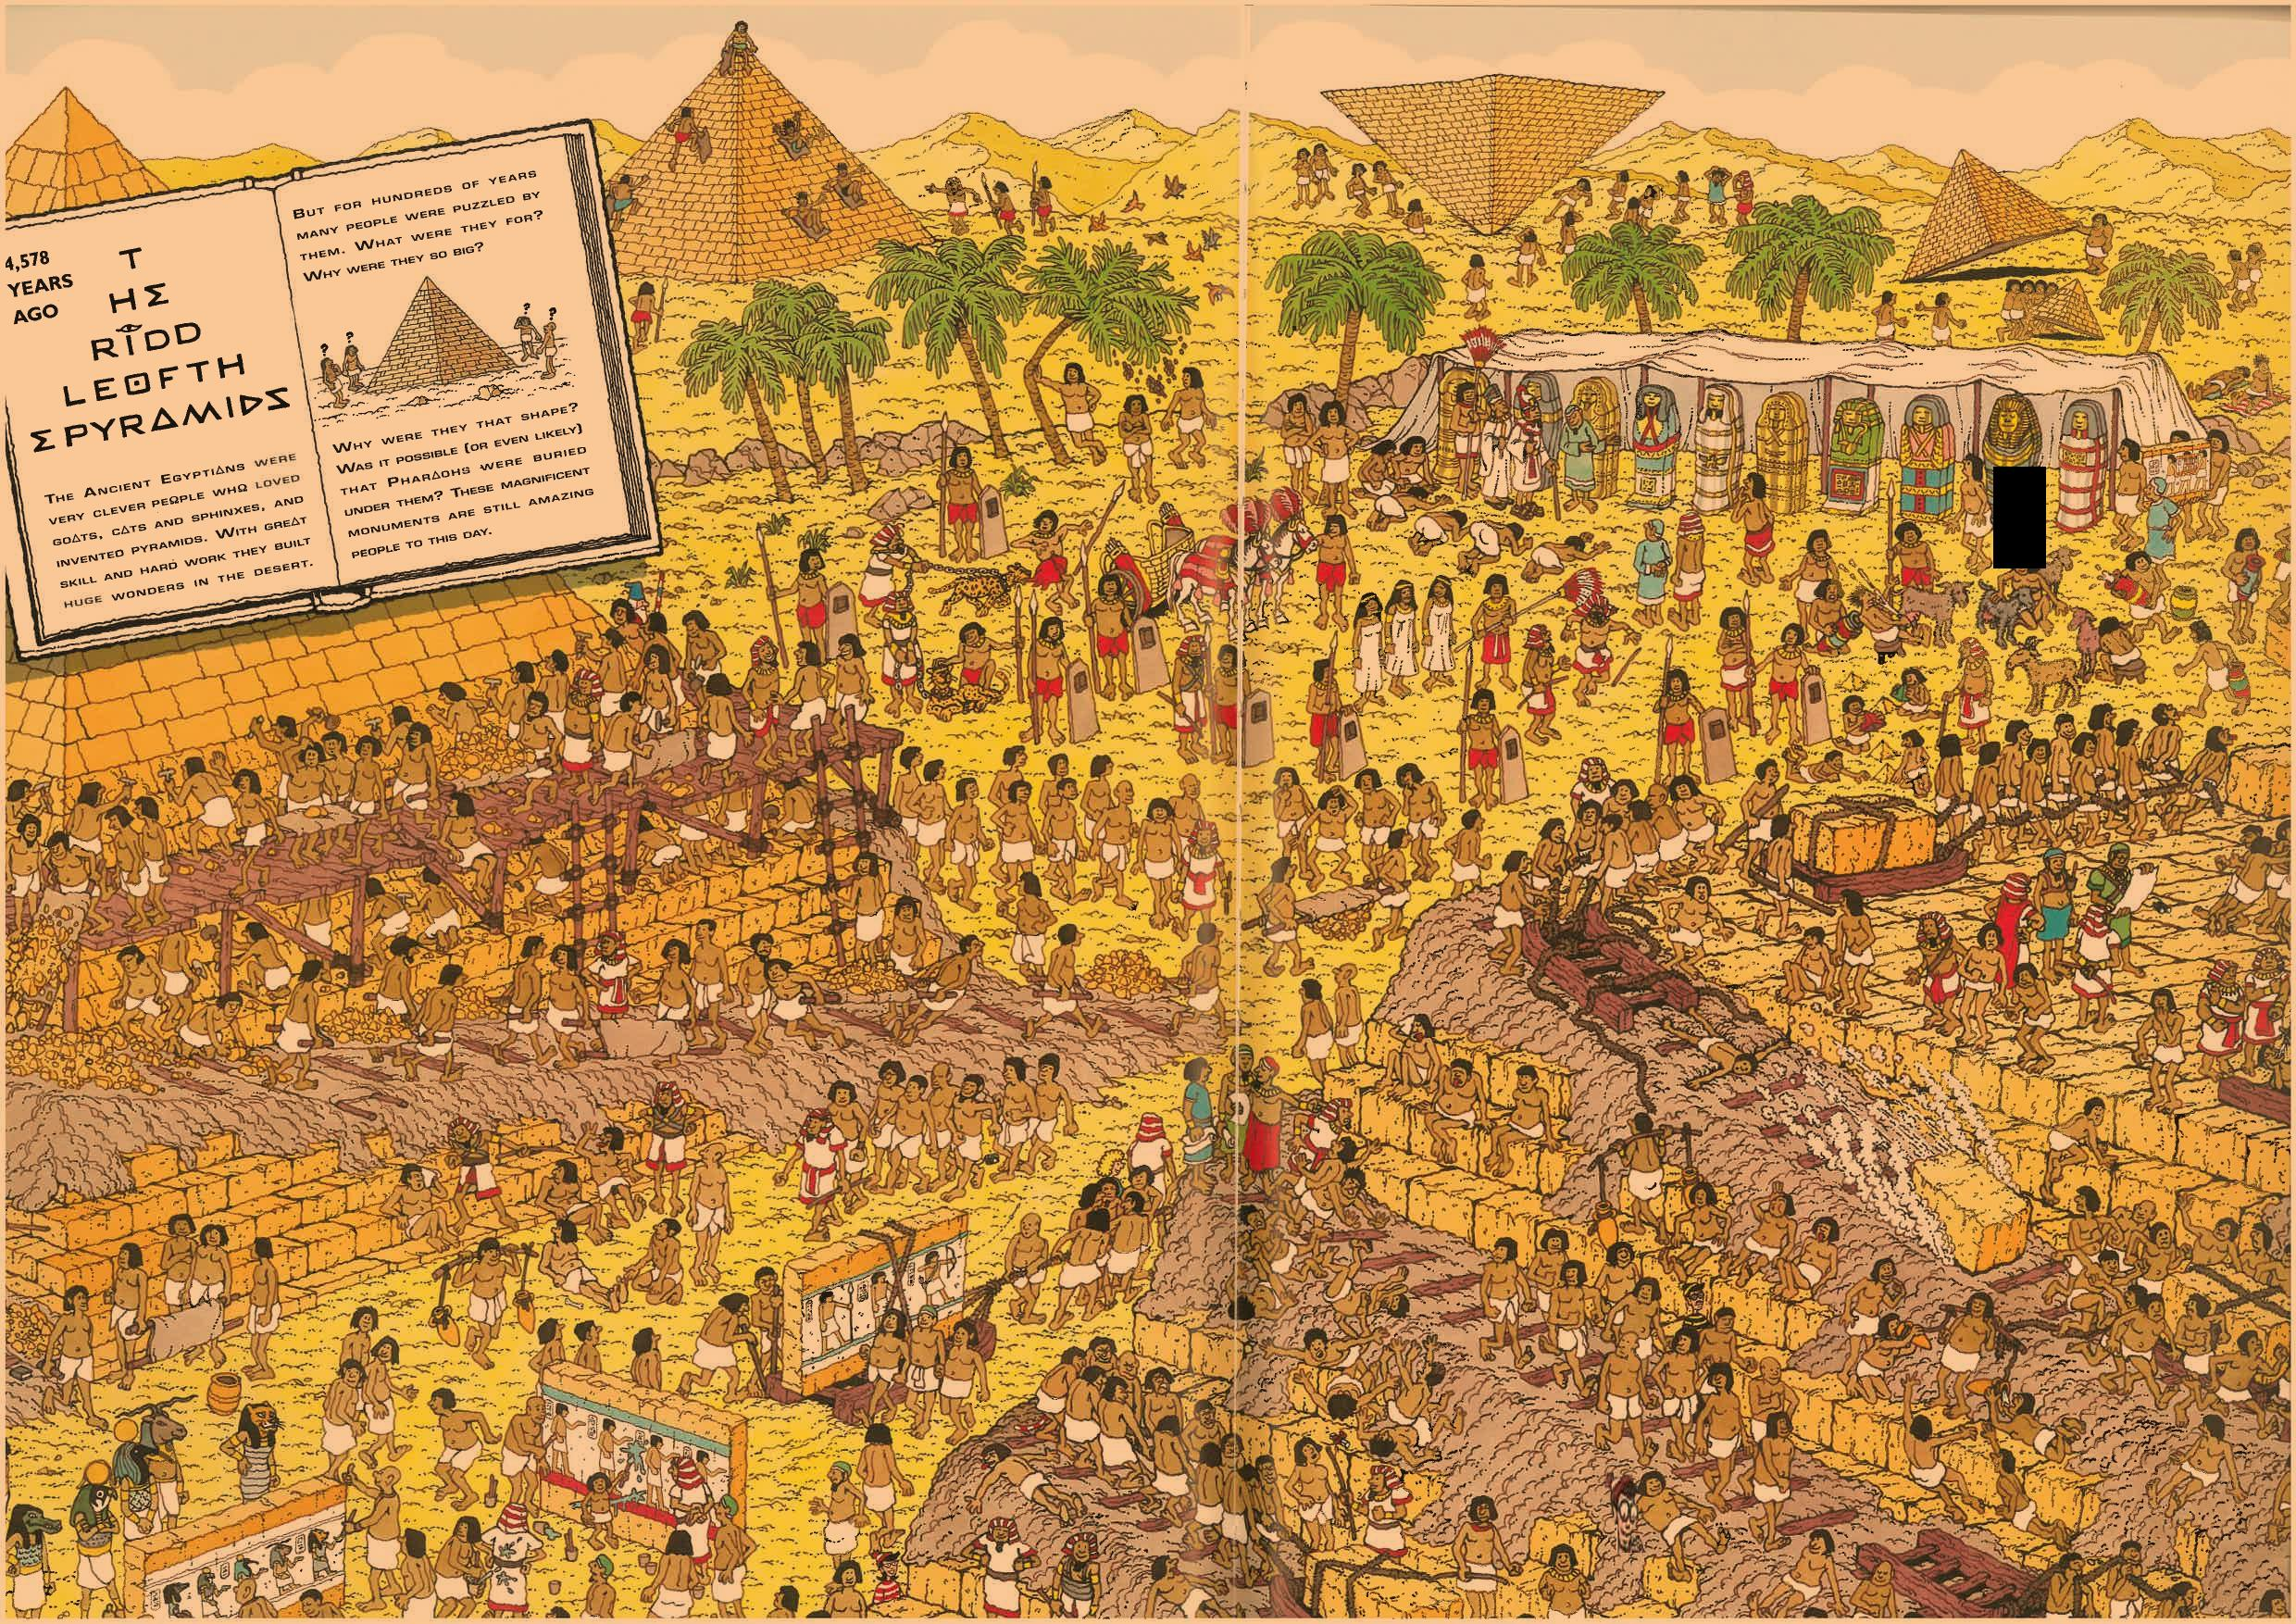waldos: (1600, 1450, 1653, 1552)
